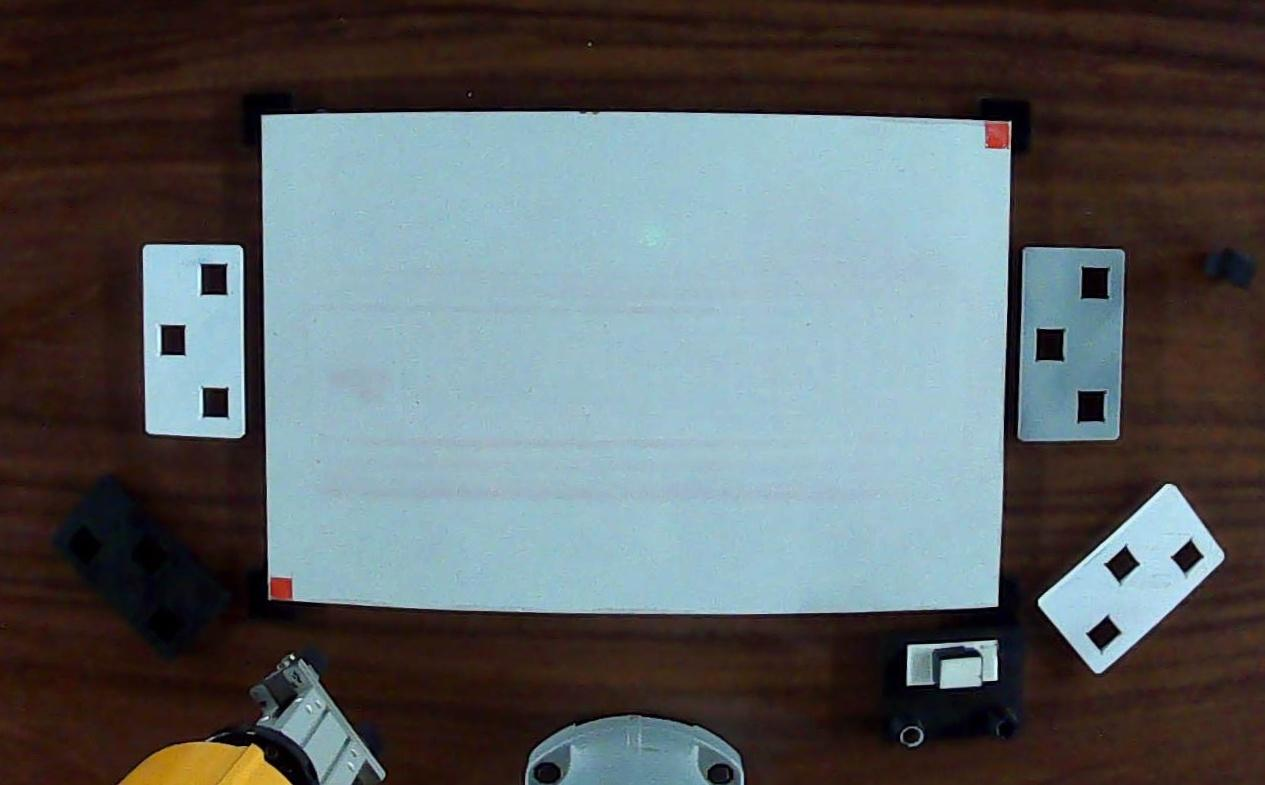pecaPreta: (1208, 240, 1254, 290)
